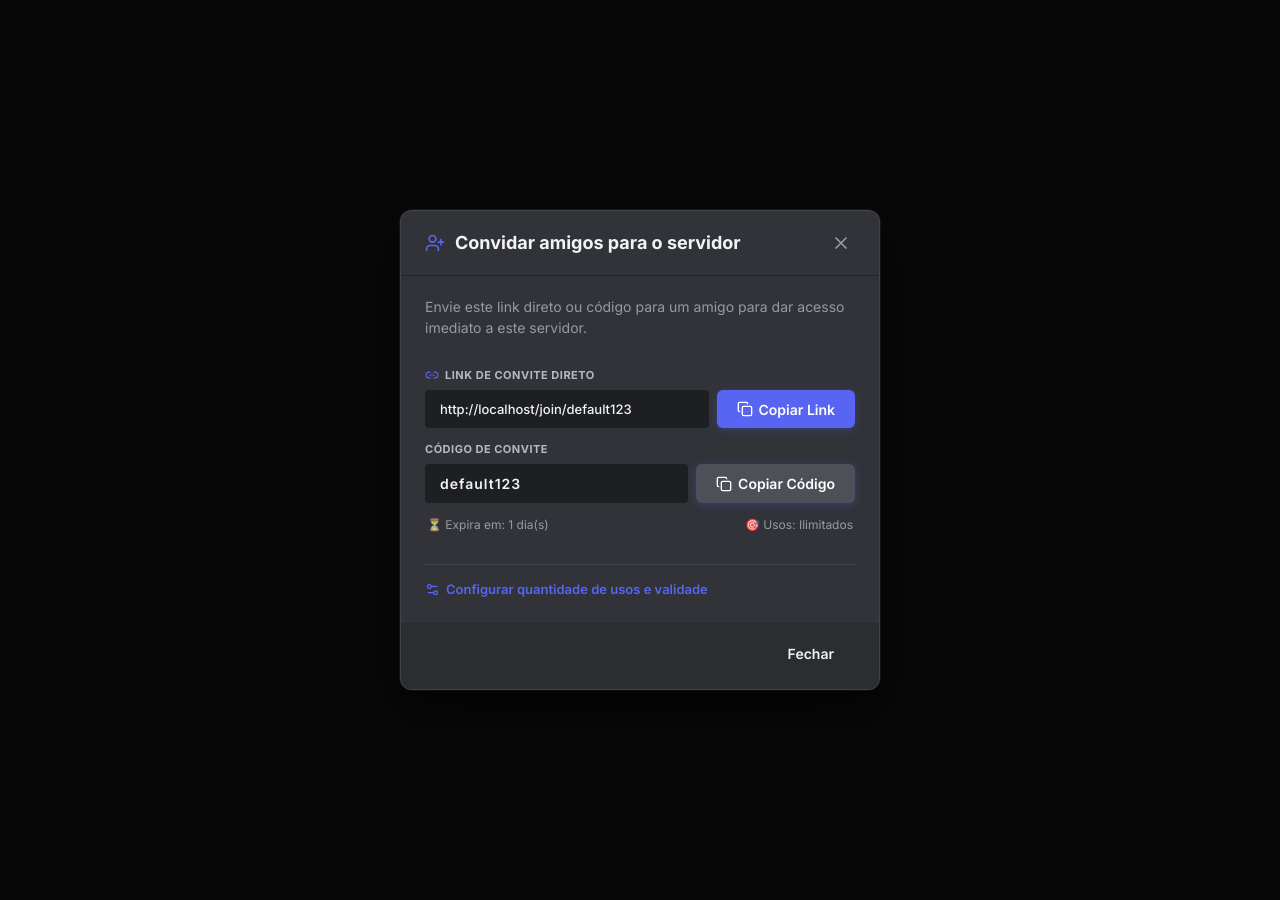
Test case: ServerInviteModal › allows configuring maximum uses and regenerating the invite
Expected: the text "CÓDIGO DE CONVITE" is shown, [425, 442, 548, 456]
Note: Toggle settings
Click the button "Configurar quantidade de usos e validade" at (566, 589), box [425, 577, 708, 601]
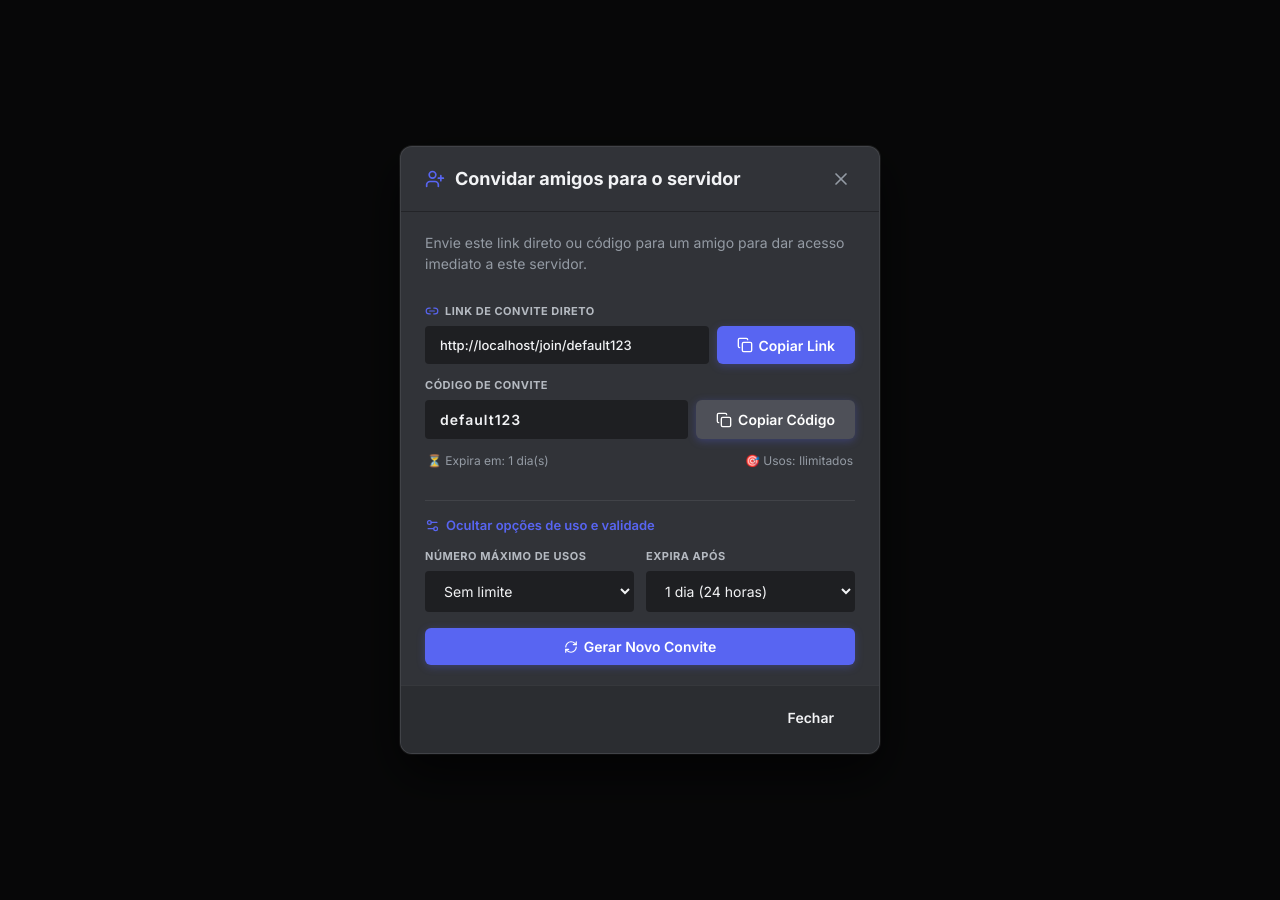
Note: Select max uses: 5
Select "5 usos" in the dropdown labelled "NÚMERO MÁXIMO DE USOS" at (530, 592), box [425, 571, 634, 612]
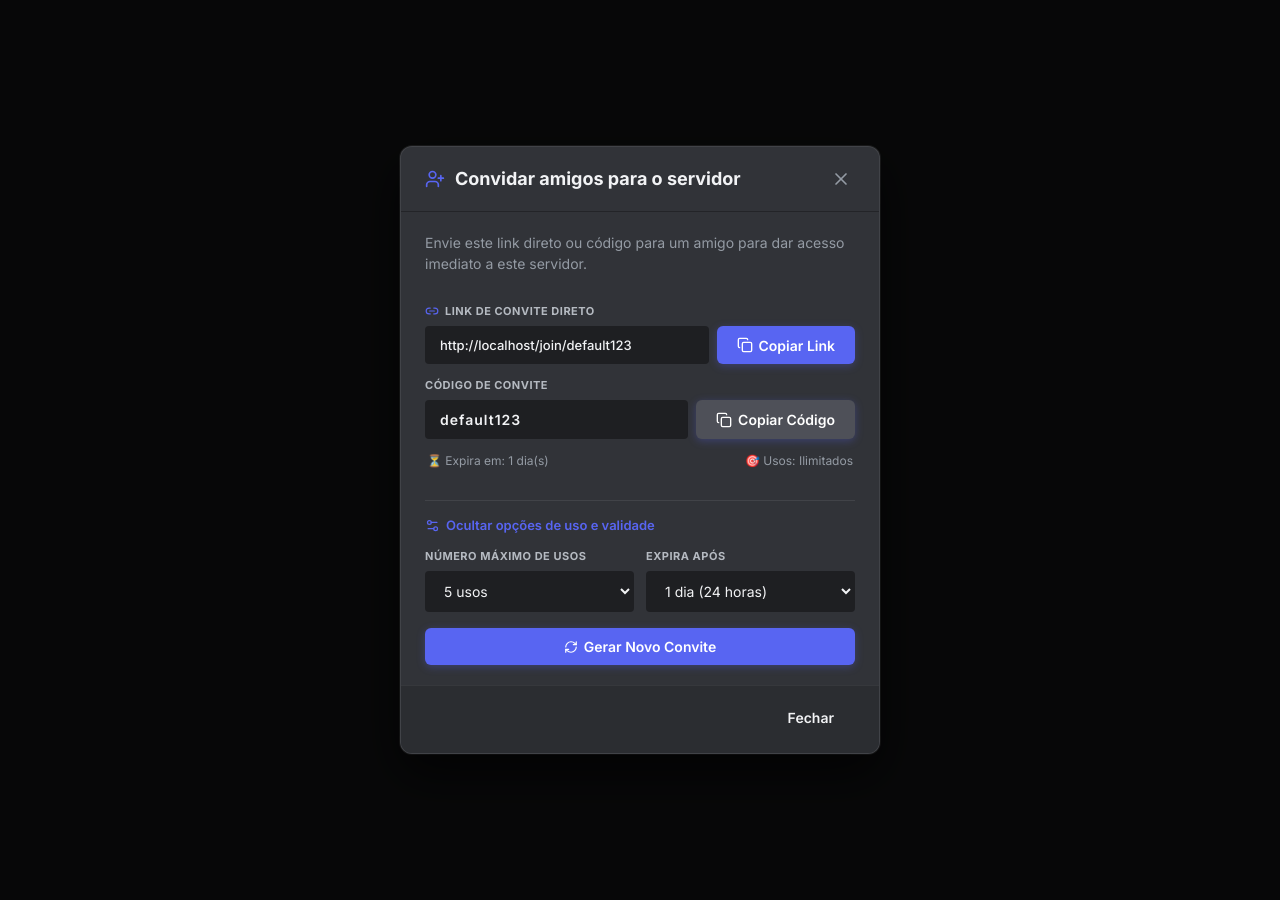
Note: Submit new invite generation
Click the button "Gerar Novo Convite" at (640, 646), box [425, 628, 855, 665]
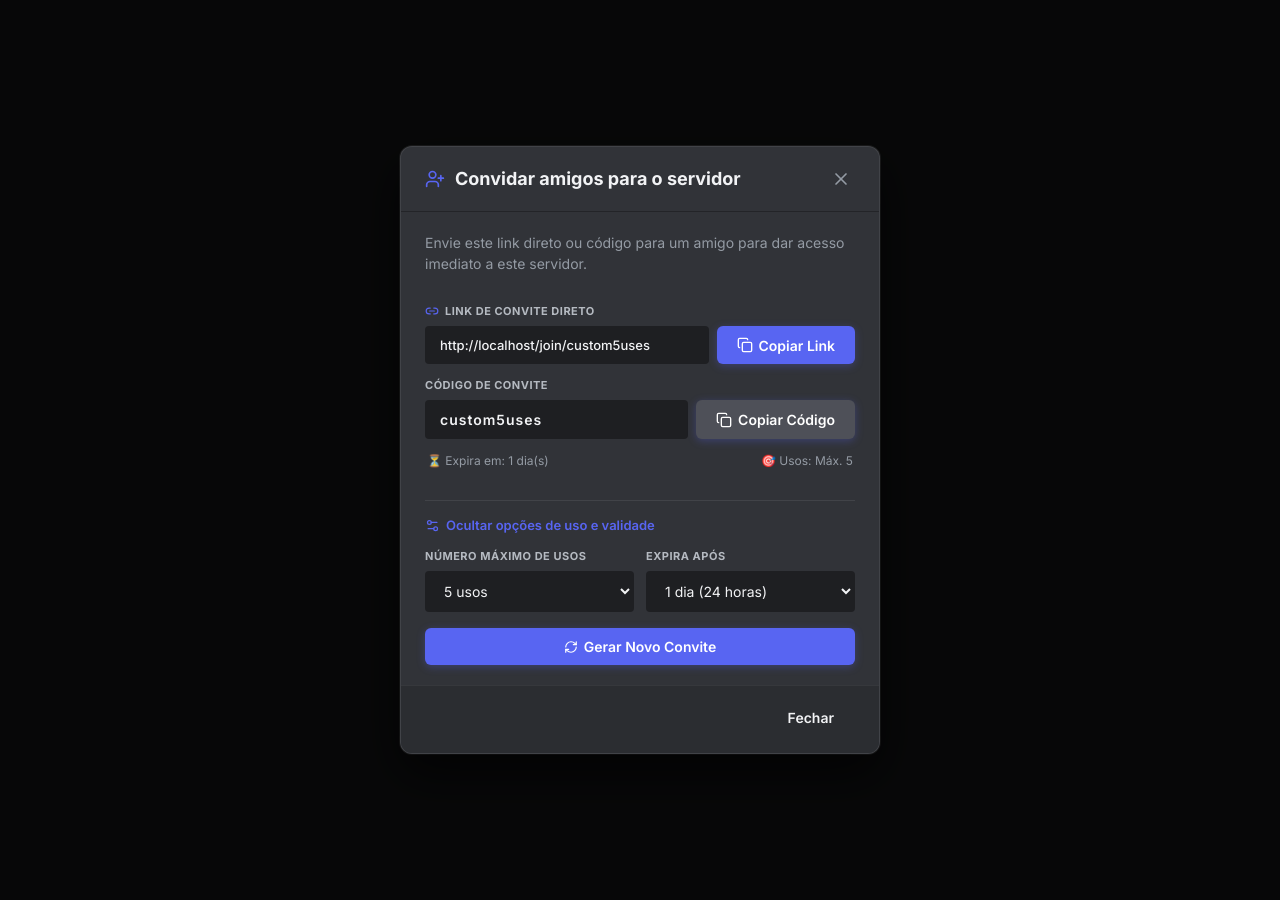
Result: the field showing "custom5uses" below "CÓDIGO DE CONVITE" is shown at [425, 400, 688, 439]
Result: the text "🎯 Usos: Máx. 5" is shown at [761, 453, 853, 468]
